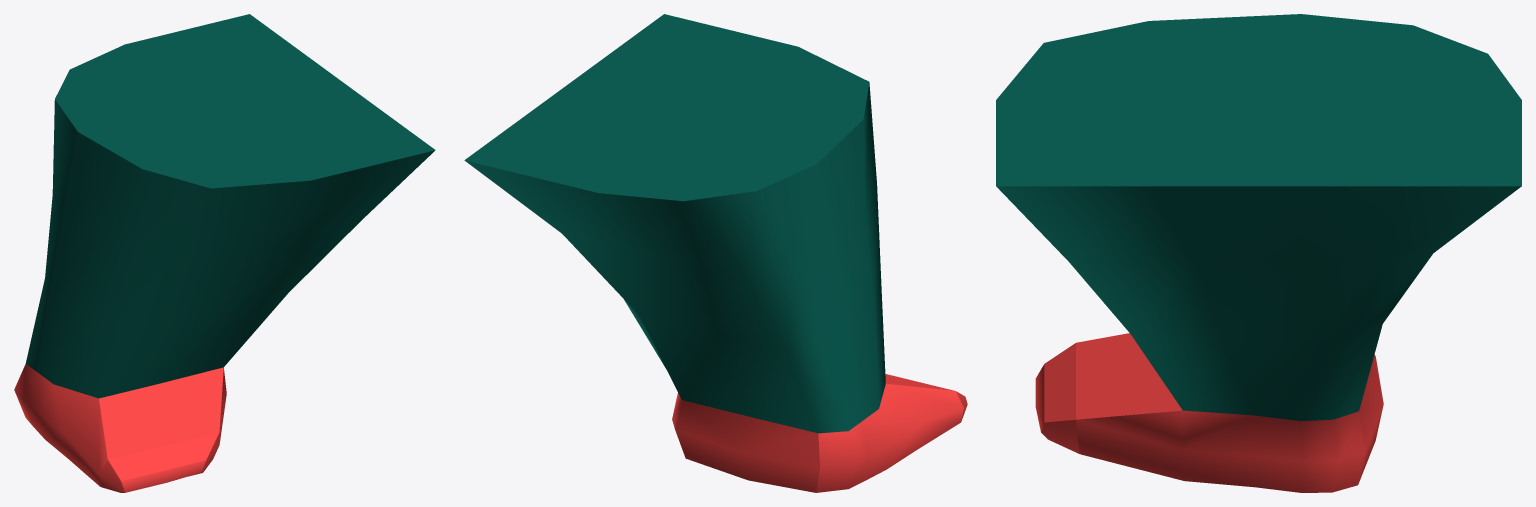
Rendered from AXO_SAD_LEG_R.fbx.
3 views of the same model, side by side, from view 1: azimuth 30°, elevation 25°; view 2: azimuth 150°, elevation 25°; view 3: azimuth 270°, elevation 25° (orthographic). The views are drawn at different scales.
Visible parts, largest first — view 1: AXO_SAD_LEG_R; view 2: AXO_SAD_LEG_R; view 3: AXO_SAD_LEG_R.
Part boxes in pixels (box(x1,y1,x2,y2)): AXO_SAD_LEG_R: box(14, 14, 435, 492); AXO_SAD_LEG_R: box(464, 14, 967, 492); AXO_SAD_LEG_R: box(996, 14, 1521, 492).
Bounding box in the file's own units: 3.17 × 2.79 × 3.32.
